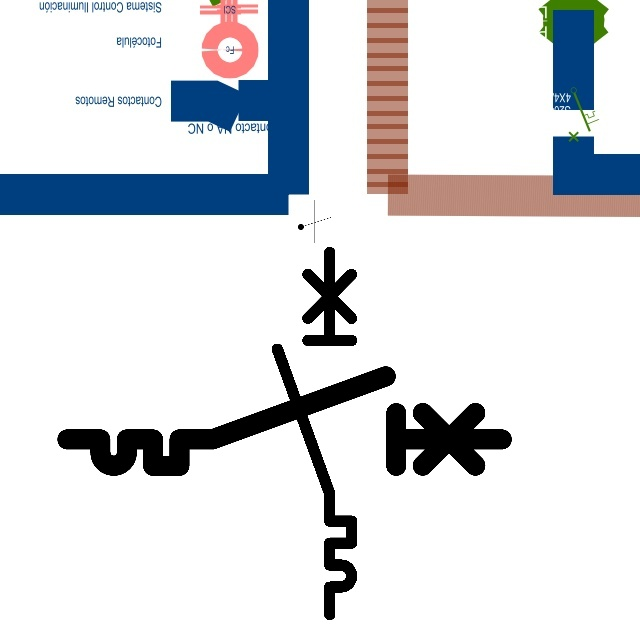interruptor_termomagnetico: (56, 365, 513, 477), (268, 243, 361, 624)
